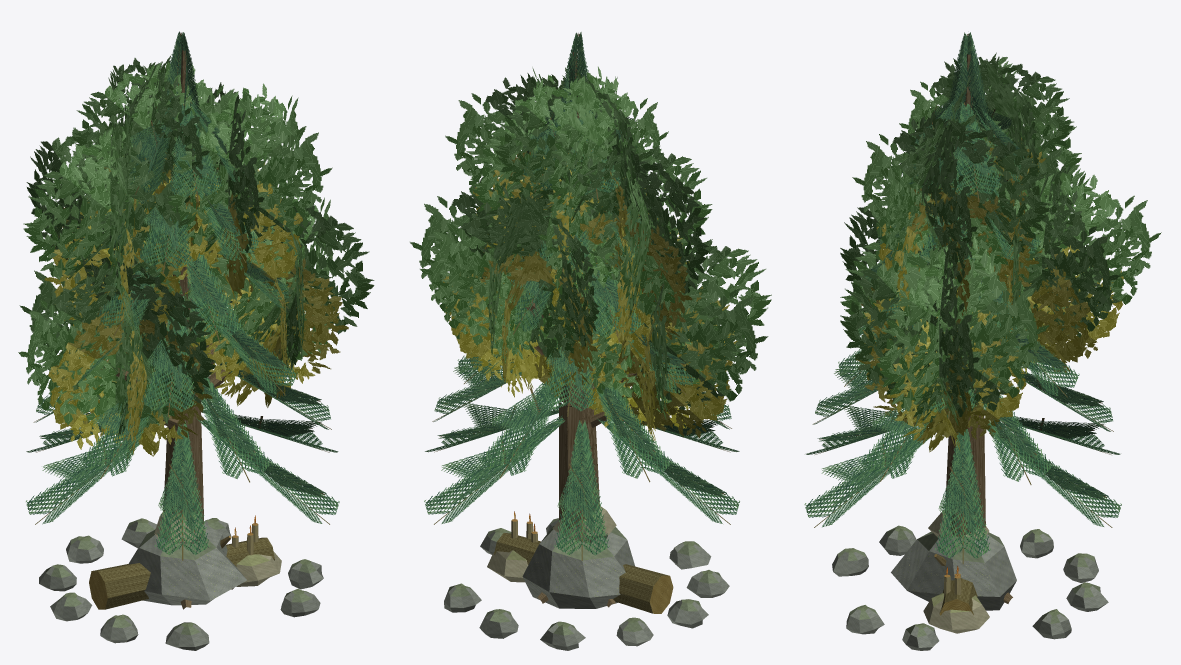
Rendered from gloaming-scenery.glb.
3 views of the same model, side by side, from view 1: azimuth 30°, elevation 25°; view 2: azimuth 150°, elevation 25°; view 3: azimuth 270°, elevation 25° (orthographic).
Parts seen in each view (by area): view 1: oak_crown, fir_crown, rowan_crown, rest_solid, rock_solid, log_solid, oak_solid, fir_solid, ruin_solid; view 2: oak_crown, fir_crown, rowan_crown, rest_solid, rock_solid, log_solid, oak_solid, fir_solid, ruin_solid; view 3: oak_crown, fir_crown, rowan_crown, rest_solid, rock_solid, oak_solid, log_solid.
Part boxes in pixels (<box>): oak_crown: <box>18,54,374,436</box>; fir_crown: <box>26,31,339,560</box>; rowan_crown: <box>44,152,348,458</box>; rest_solid: <box>39,518,323,650</box>; rock_solid: <box>128,524,246,605</box>; log_solid: <box>89,536,274,609</box>; oak_solid: <box>115,250,254,609</box>; fir_solid: <box>164,50,194,513</box>; ruin_solid: <box>154,511,205,543</box>; oak_crown: <box>410,66,771,419</box>; fir_crown: <box>424,32,739,560</box>; rowan_crown: <box>443,150,737,444</box>; rest_solid: <box>444,518,729,650</box>; rock_solid: <box>522,526,635,608</box>; log_solid: <box>494,533,673,613</box>; oak_solid: <box>525,301,643,607</box>; fir_solid: <box>565,52,599,511</box>; ruin_solid: <box>552,506,616,542</box>; oak_crown: <box>840,52,1161,425</box>; fir_crown: <box>804,32,1121,564</box>; rowan_crown: <box>856,137,1123,452</box>; rest_solid: <box>832,525,1108,650</box>; rock_solid: <box>891,531,1016,610</box>; oak_solid: <box>945,388,1012,603</box>; log_solid: <box>934,554,977,615</box>.
Size of the model in its own units: 7.34 by 11.42 by 6.62.
2 materials, 2 textured.
